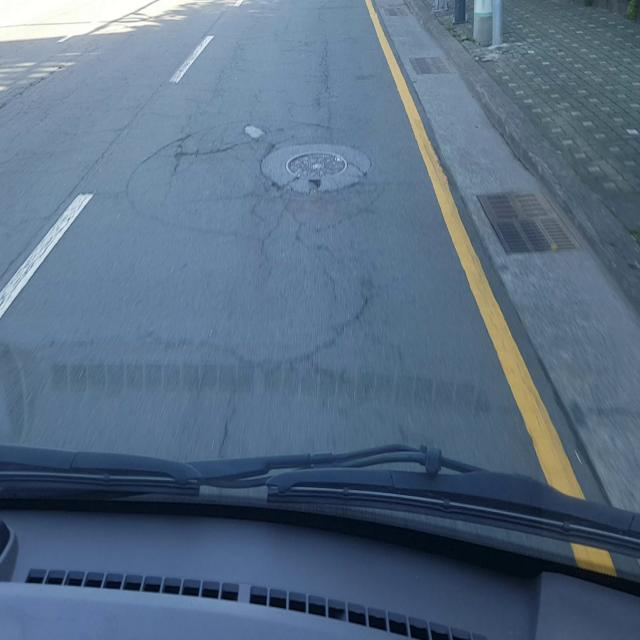pothole: (272, 151, 366, 191)
